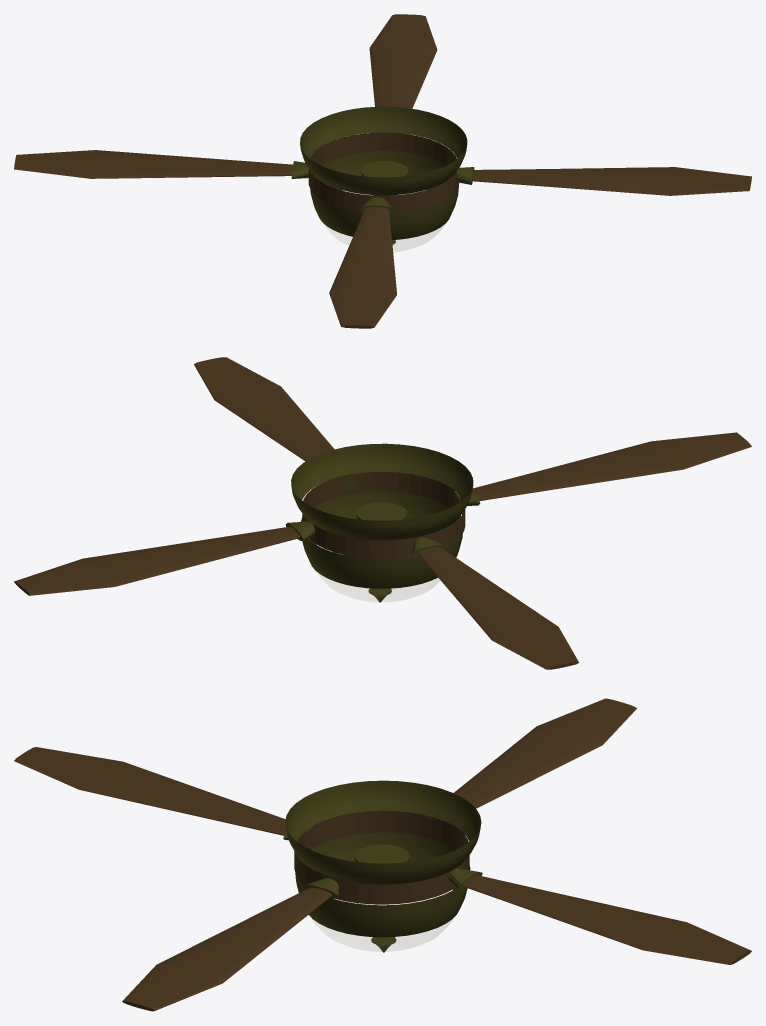
File: CeilingFan.fbx
3 renders of one model, top to bottom at view 1: azimuth 30°, elevation 25°; view 2: azimuth 150°, elevation 25°; view 3: azimuth 270°, elevation 25°, orthographic. The views are drawn at different scales.
Parts seen in each view (by area): view 1: pCylinder9, polySurface6, polySurface2; view 2: pCylinder9, polySurface6, polySurface2; view 3: pCylinder9, polySurface6, polySurface2.
Part boxes in pixels (bbox=[...]): pCylinder9: bbox=[14, 14, 751, 328]; polySurface6: bbox=[300, 106, 467, 251]; polySurface2: bbox=[312, 133, 455, 174]; pCylinder9: bbox=[14, 357, 751, 669]; polySurface6: bbox=[291, 443, 473, 602]; polySurface2: bbox=[304, 472, 460, 517]; pCylinder9: bbox=[14, 698, 751, 1011]; polySurface6: bbox=[285, 780, 481, 952]; polySurface2: bbox=[297, 812, 466, 859].
Size of the model in its own units: 14.93 by 2.88 by 14.93.
